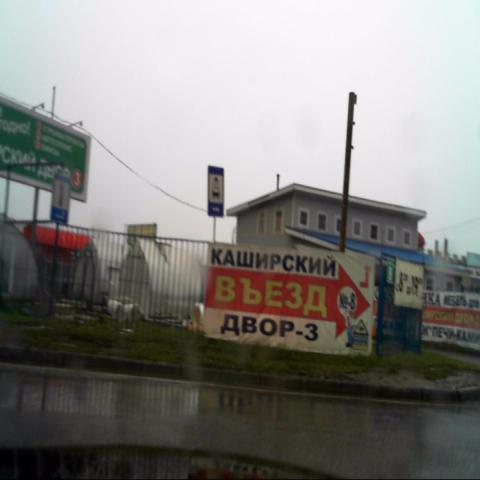7_4: (50, 174, 68, 225)
7_5: (207, 166, 223, 215)
